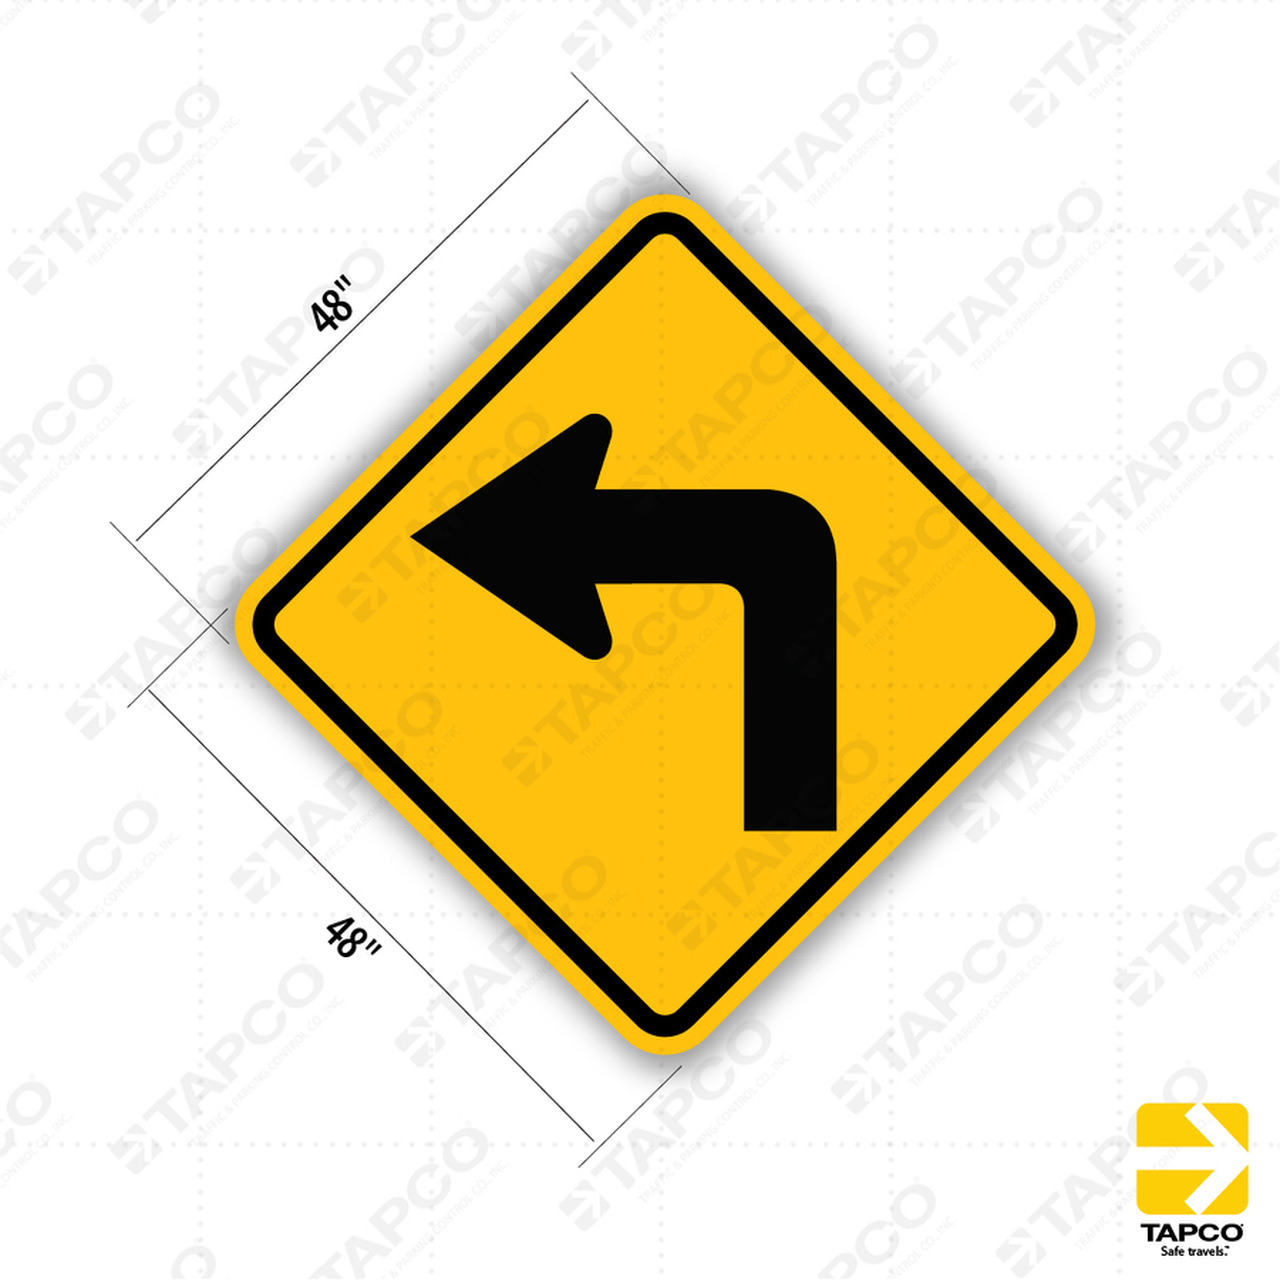left: (222, 190, 1109, 1062)
